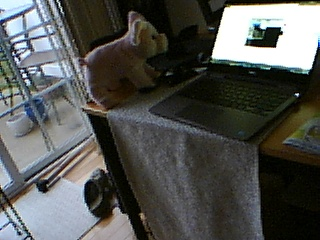piggy: (75, 9, 169, 109)
